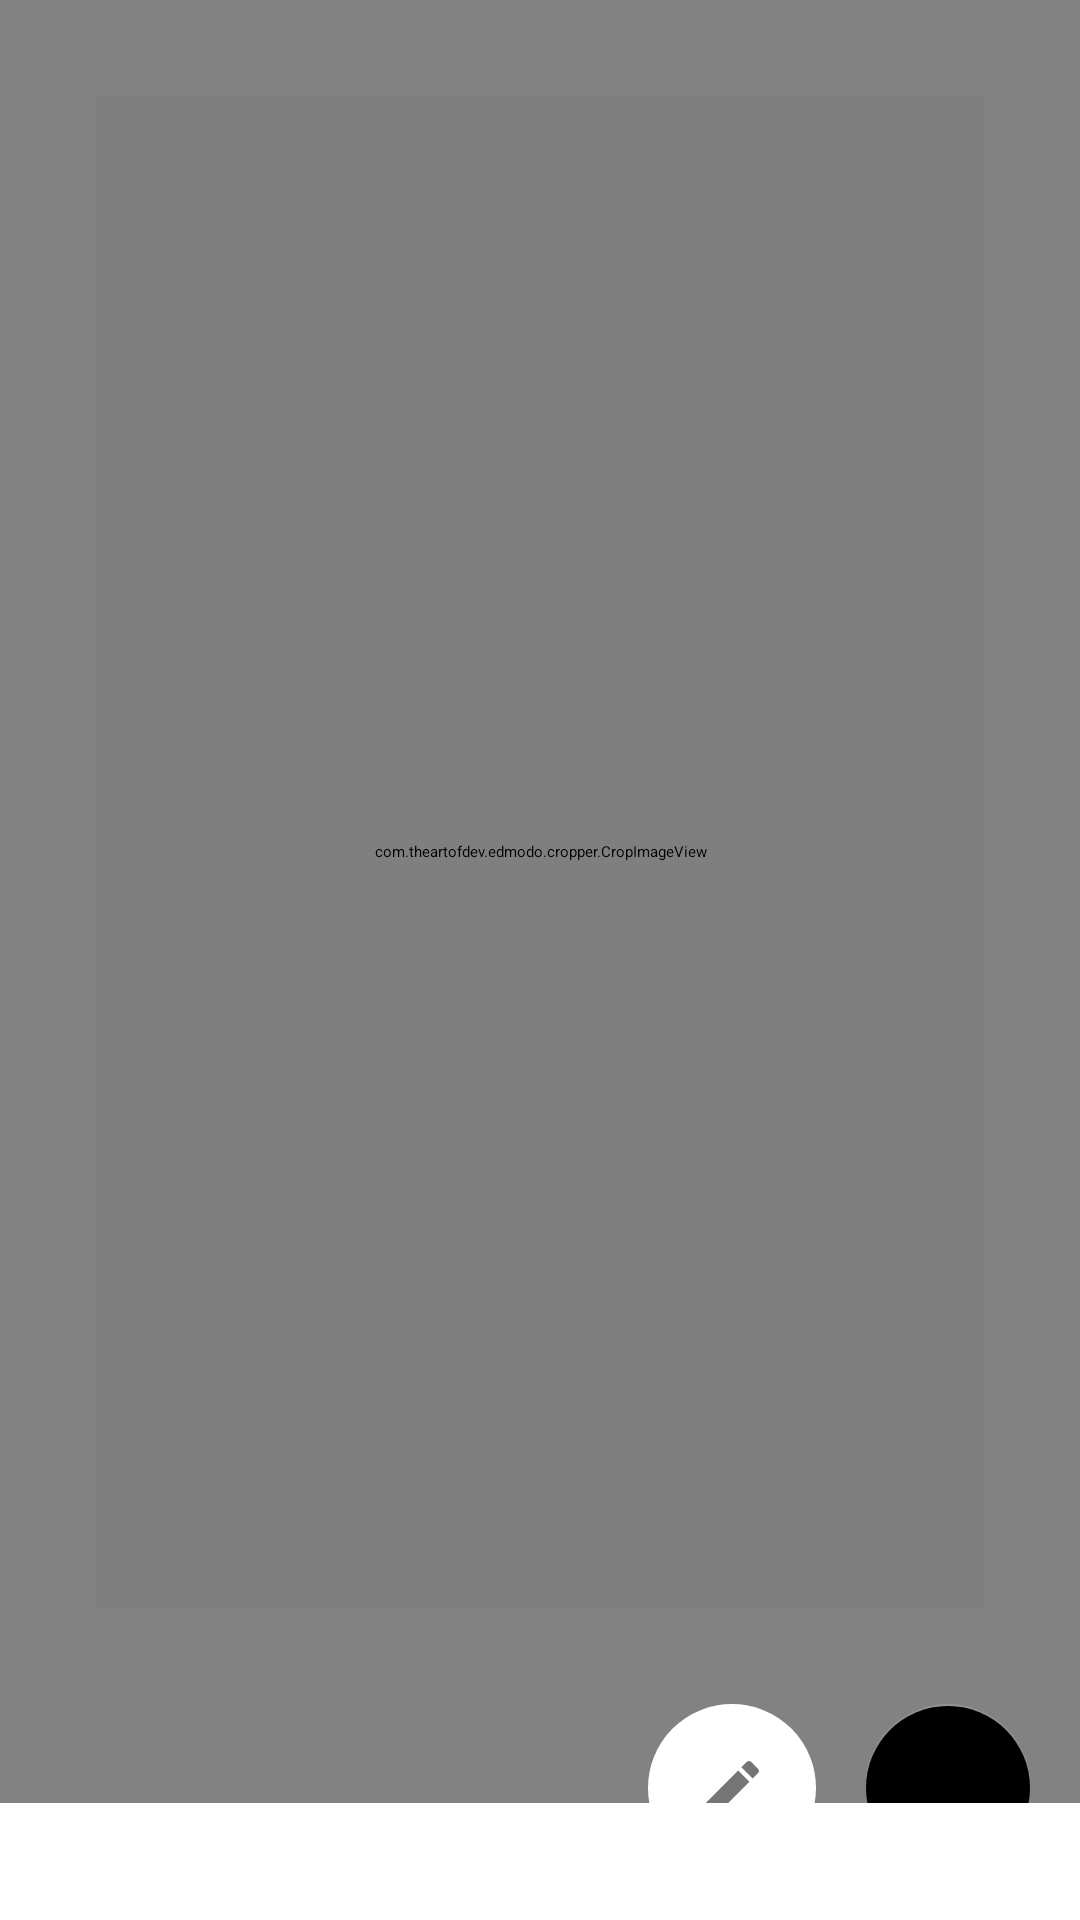

Icons on this 1080 x 1920 Android screen, each with the point to tap as (x,y):
pencil: (732,1788)
